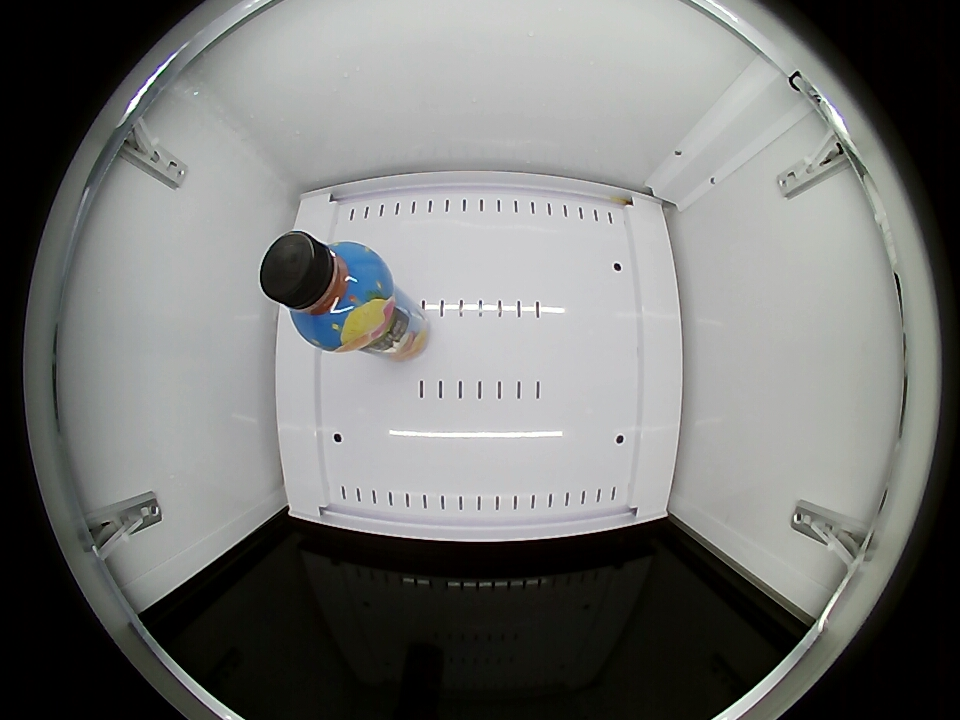guolicheng2: (260, 231, 391, 350)
